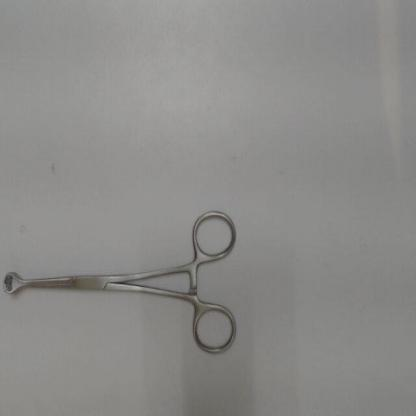Babcock Tissue Forceps: (2, 208, 242, 363)
